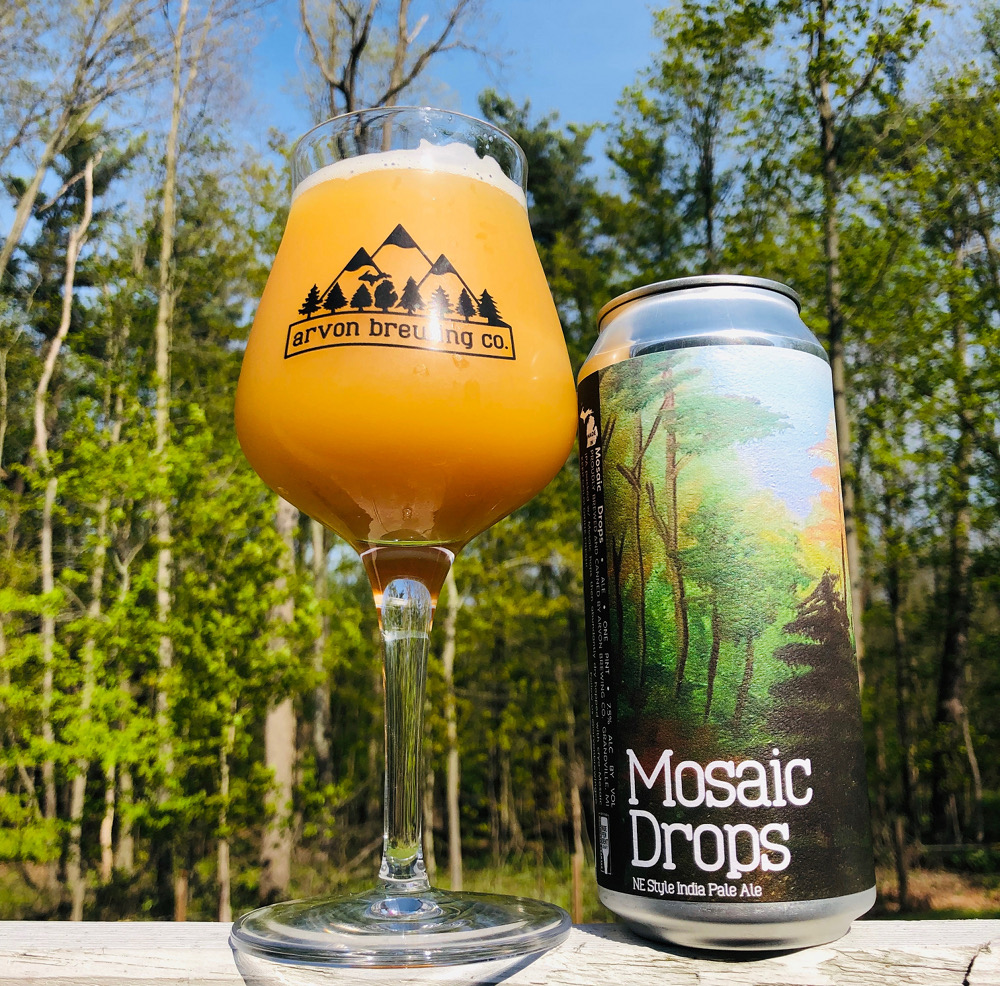beer can: (574, 275, 879, 959)
